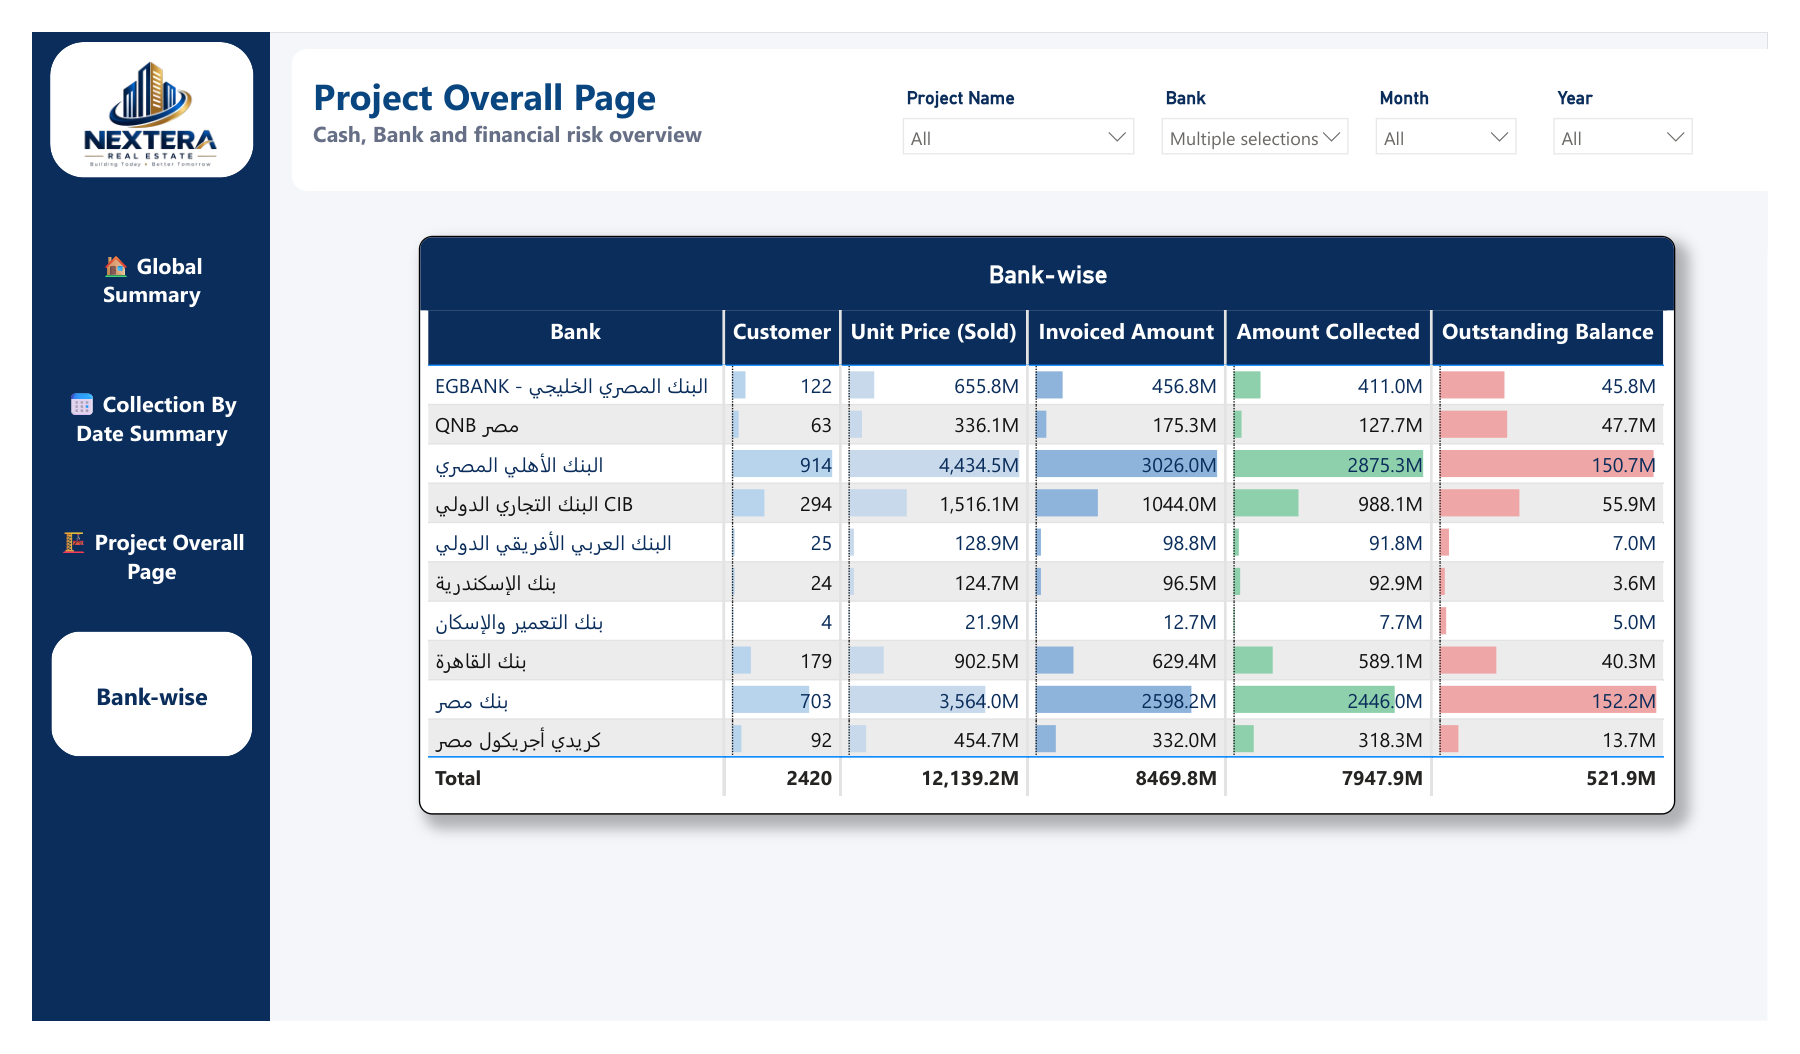

What the dashboard file says about the page in this screenshot:
{"tool":"powerbi","page":{"name":"Bank-wise","canvas":[1280,729],"ordinal":3},"visuals":[{"type":"shape","box":[0,0,175.4,890],"z":0},{"type":"pageNavigator","box":[13.6,136.2,148.8,400.7],"z":1000},{"type":"shape","box":[190.5,11.5,1114.8,105.7],"z":2000},{"type":"shape","box":[12.6,6.8,150,100],"z":3000},{"type":"image","box":[12.6,6.8,148.8,107],"z":4000},{"type":"textbox","box":[202.3,23.3,575.8,73.9],"z":5000},{"type":"slicer","fields":{"Values":["Dim Project.Project Name"]},"box":[632.2,36,190.6,55.4],"z":6000},{"type":"slicer","fields":{"Values":["Dim Bank.Bank"]},"box":[822.9,36,158.5,60.3],"z":7000},{"type":"slicer","fields":{"Values":["DimDate.Month Name"]},"box":[981.4,36,123.5,61.3],"z":8000},{"type":"slicer","fields":{"Values":["DimDate.Year"]},"box":[1111.7,36,123.5,61.3],"z":9000},{"type":"tableEx","title":"Bank-wise","fields":{"Values":["Dim Bank.Bank","Dax.# Sold","Dax.Unit Price (Sold)","Dax.Invoiced Amount","Dax.Amount Collected","Dax.Outstanding Balance"]},"box":[285.1,149.8,927.4,427.3],"z":10000}]}

Visuals, with their boxes in screenshot pixels (x1, y1, x2, y2), scaled from the page's 1280x729 canvas onto the 1800x1054 screenshot:
shape: box=[0, 0, 247, 1053]
pageNavigator: box=[19, 197, 228, 776]
shape: box=[268, 17, 1799, 169]
shape: box=[18, 10, 229, 154]
image: box=[18, 10, 227, 165]
textbox: box=[284, 34, 1094, 141]
slicer - Dim Project.Project Name: box=[889, 52, 1157, 132]
slicer - Dim Bank.Bank: box=[1157, 52, 1380, 139]
slicer - DimDate.Month Name: box=[1380, 52, 1554, 141]
slicer - DimDate.Year: box=[1563, 52, 1737, 141]
"Bank-wise" tableEx: box=[401, 217, 1705, 834]
